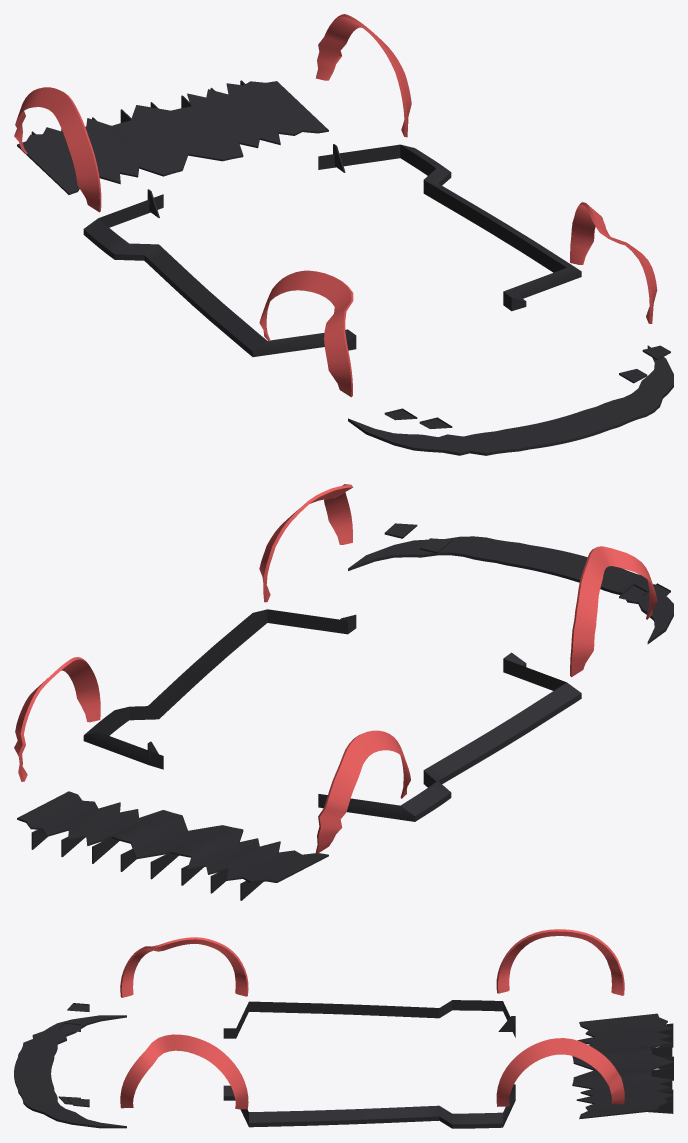
File: bodykit-gt3-huracan.glb
3 views of the same model, one above another, from view 1: azimuth 30°, elevation 25°; view 2: azimuth 150°, elevation 25°; view 3: azimuth 270°, elevation 25° (orthographic). The views are drawn at different scales.
Visible parts, largest first — view 1: gt3_diffuser, gt3_flares, gt3_splitter, gt3_skirt_R, gt3_skirt_L, gt3_canards; view 2: gt3_diffuser, gt3_flares, gt3_skirt_R, gt3_splitter, gt3_skirt_L, gt3_canards; view 3: gt3_flares, gt3_diffuser, gt3_skirt_L, gt3_splitter, gt3_skirt_R, gt3_canards.
Boxes of the visible parts, left/top/right/bottom form: gt3_diffuser: left=17, top=80, right=328, bottom=194; gt3_flares: left=14, top=14, right=657, bottom=397; gt3_splitter: left=348, top=345, right=673, bottom=455; gt3_skirt_R: left=83, top=189, right=356, bottom=356; gt3_skirt_L: left=318, top=144, right=581, bottom=311; gt3_canards: left=384, top=345, right=670, bottom=428; gt3_diffuser: left=17, top=791, right=328, bottom=900; gt3_flares: left=14, top=484, right=657, bottom=853; gt3_skirt_R: left=318, top=652, right=581, bottom=821; gt3_splitter: left=348, top=536, right=673, bottom=644; gt3_skirt_L: left=83, top=609, right=356, bottom=769; gt3_canards: left=384, top=523, right=670, bottom=602; gt3_flares: left=120, top=929, right=624, bottom=1109; gt3_diffuser: left=572, top=1013, right=673, bottom=1119; gt3_skirt_L: left=223, top=1084, right=515, bottom=1128; gt3_splitter: left=14, top=1015, right=126, bottom=1128; gt3_skirt_R: left=223, top=1000, right=515, bottom=1038; gt3_canards: left=58, top=1003, right=89, bottom=1107.
Size of the model in its own units: 2.06 by 0.7073 by 4.63.
